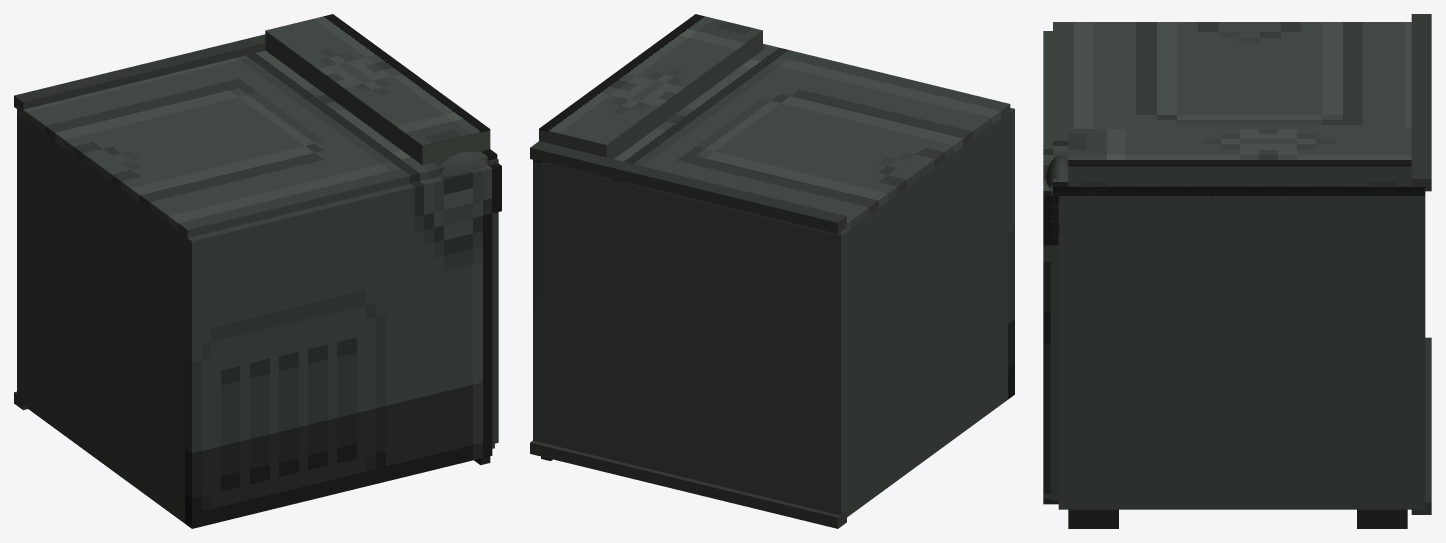
The model's file is CMU3DFreightRMCContainerShortGreenRight.glb.
The picture shows the model from 3 angles, left to right: view 1: azimuth 30°, elevation 25°; view 2: azimuth 150°, elevation 25°; view 3: azimuth 270°, elevation 25°; orthographic projection. The views are drawn at different scales.
Parts seen in each view (by area): view 1: painted front panel, closed cargo shell, source-painted lid, source-painted locking strap, outer lid strap, rear horizontal frame, outer end wall, rounded strap end; view 2: closed cargo shell, source-painted lid, rear horizontal frame (×2), source-painted locking strap, outer lid strap, painted front panel, outer end wall; view 3: closed cargo shell, source-painted lid, outer end wall, source-painted locking strap, outer lid strap, rear horizontal frame (×2), painted front panel, corner lifting foot (×2), corner frame upright (×2), rounded strap end.
Part boxes in pixels (bbox=[...]): painted front panel: bbox=[184, 163, 501, 528]; closed cargo shell: bbox=[17, 113, 494, 523]; source-painted lid: bbox=[17, 50, 497, 237]; source-painted locking strap: bbox=[265, 14, 490, 146]; outer lid strap: bbox=[265, 32, 490, 165]; rear horizontal frame: bbox=[14, 34, 265, 113]; outer end wall: bbox=[487, 158, 498, 444]; rounded strap end: bbox=[438, 150, 487, 176]; closed cargo shell: bbox=[533, 114, 1007, 517]; source-painted lid: bbox=[533, 43, 1010, 235]; rear horizontal frame (×2): bbox=[530, 141, 846, 528]; source-painted locking strap: bbox=[539, 14, 762, 145]; outer lid strap: bbox=[539, 31, 762, 159]; painted front panel: bbox=[1008, 108, 1014, 399]; outer end wall: bbox=[533, 160, 542, 354]; closed cargo shell: bbox=[1058, 196, 1425, 509]; source-painted lid: bbox=[1053, 22, 1425, 195]; outer end wall: bbox=[1050, 186, 1425, 500]; source-painted locking strap: bbox=[1068, 129, 1411, 166]; outer lid strap: bbox=[1068, 166, 1411, 186]; rear horizontal frame (×2): bbox=[1411, 14, 1431, 514]; painted front panel: bbox=[1043, 31, 1059, 504]; corner lifting foot (×2): bbox=[1068, 509, 1407, 528]; corner frame upright (×2): bbox=[1080, 182, 1395, 499]; rounded strap end: bbox=[1046, 155, 1068, 188].
Bounding box in the file's own units: 1 × 1.03 × 0.995.
Materials: 10 (3 with a texture image).
